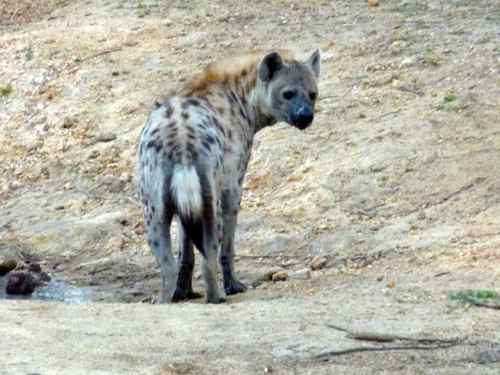hyena: (136, 40, 326, 304)
